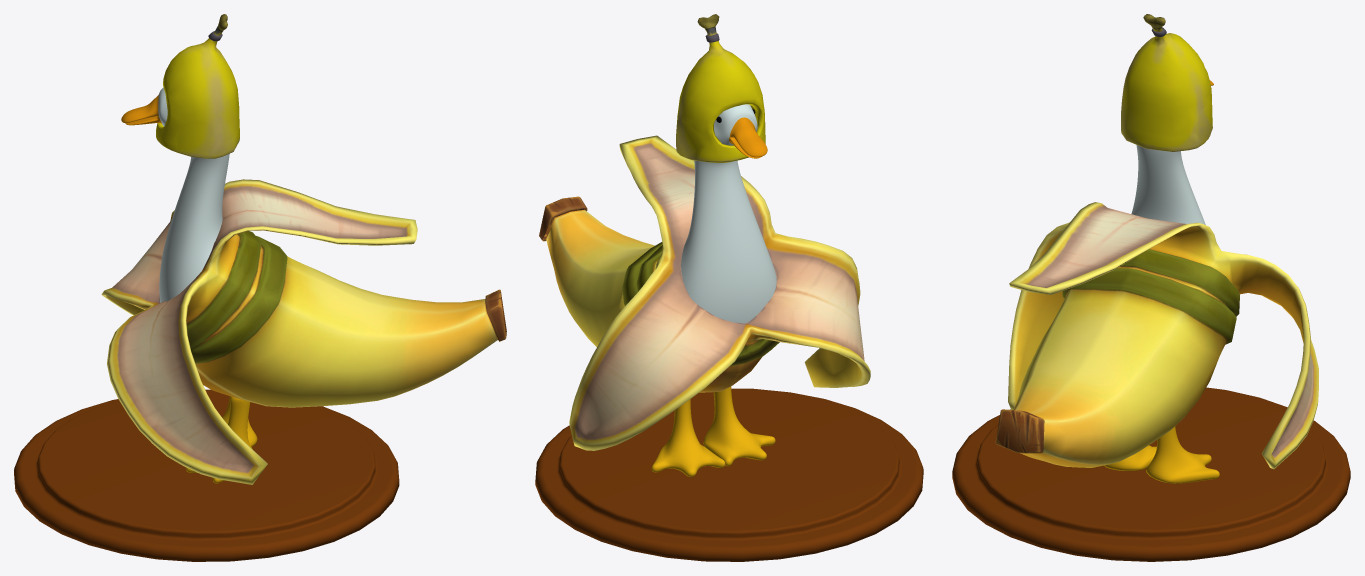
The model's file is duck_banana.glb.
3 views of the same model, side by side, from view 1: azimuth 30°, elevation 25°; view 2: azimuth 150°, elevation 25°; view 3: azimuth 270°, elevation 25° (orthographic). The views are drawn at different scales.
Parts seen in each view (by area): view 1: Pickaxe_Banana.mo.001_1, object 7, Banana.001_0, pCube2_2, pCube2.004_5, pCube2.001_3; view 2: Pickaxe_Banana.mo.001_1, object 7, pCube2_2, Banana.001_0, pCube2.004_5, pCube2.001_3; view 3: Pickaxe_Banana.mo.001_1, object 7, Banana.001_0, pCube2_2, pCube2.004_5.
Boxes of the visible parts, x1=… form: Pickaxe_Banana.mo.001_1: x1=101, y1=179, x2=506, y2=484; object 7: x1=14, y1=389, x2=399, y2=561; Banana.001_0: x1=156, y1=14, x2=239, y2=158; pCube2_2: x1=158, y1=87, x2=229, y2=302; pCube2.004_5: x1=185, y1=396, x2=257, y2=483; pCube2.001_3: x1=121, y1=95, x2=161, y2=125; Pickaxe_Banana.mo.001_1: x1=539, y1=135, x2=870, y2=450; object 7: x1=535, y1=388, x2=923, y2=561; pCube2_2: x1=681, y1=104, x2=776, y2=323; Banana.001_0: x1=676, y1=14, x2=765, y2=162; pCube2.004_5: x1=651, y1=386, x2=775, y2=476; pCube2.001_3: x1=729, y1=117, x2=767, y2=158; Pickaxe_Banana.mo.001_1: x1=995, y1=202, x2=1318, y2=469; object 7: x1=952, y1=387, x2=1350, y2=561; Banana.001_0: x1=1121, y1=14, x2=1212, y2=151; pCube2_2: x1=1131, y1=145, x2=1205, y2=224; pCube2.004_5: x1=1104, y1=426, x2=1219, y2=483.
Bounding box in the file's own units: 5.71 × 6.08 × 4.65.
Materials: 8 (2 with a texture image).
